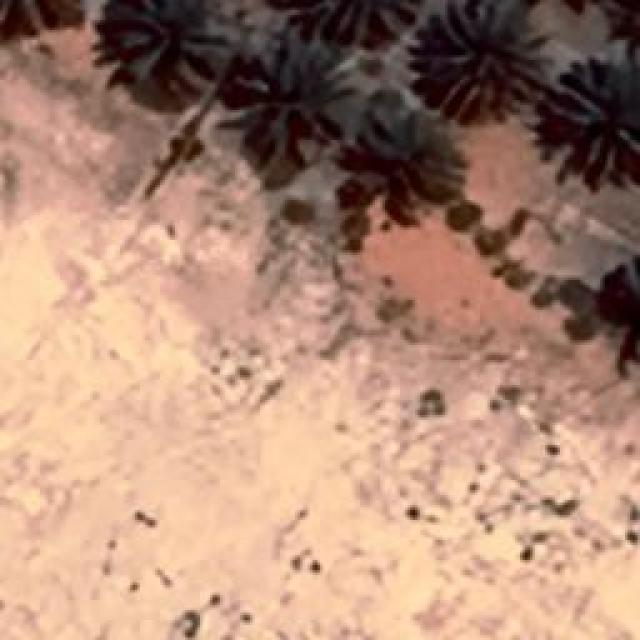PalmTree: (41, 16, 404, 162), (427, 0, 555, 125), (238, 40, 342, 165), (112, 0, 229, 92), (560, 55, 638, 175), (600, 254, 640, 358), (310, 0, 418, 38), (598, 0, 640, 59)
